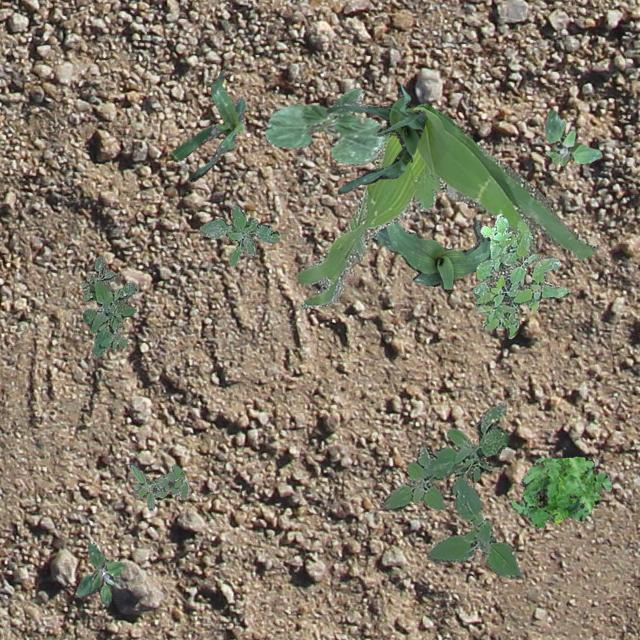crop: (326, 84, 426, 194), (264, 86, 382, 164), (168, 68, 246, 180), (370, 218, 490, 288)
weed: (296, 103, 598, 310), (380, 400, 520, 578), (472, 212, 568, 338), (508, 456, 610, 528), (80, 254, 136, 356), (198, 204, 278, 266), (75, 540, 124, 604), (544, 109, 600, 164), (128, 462, 188, 509)
